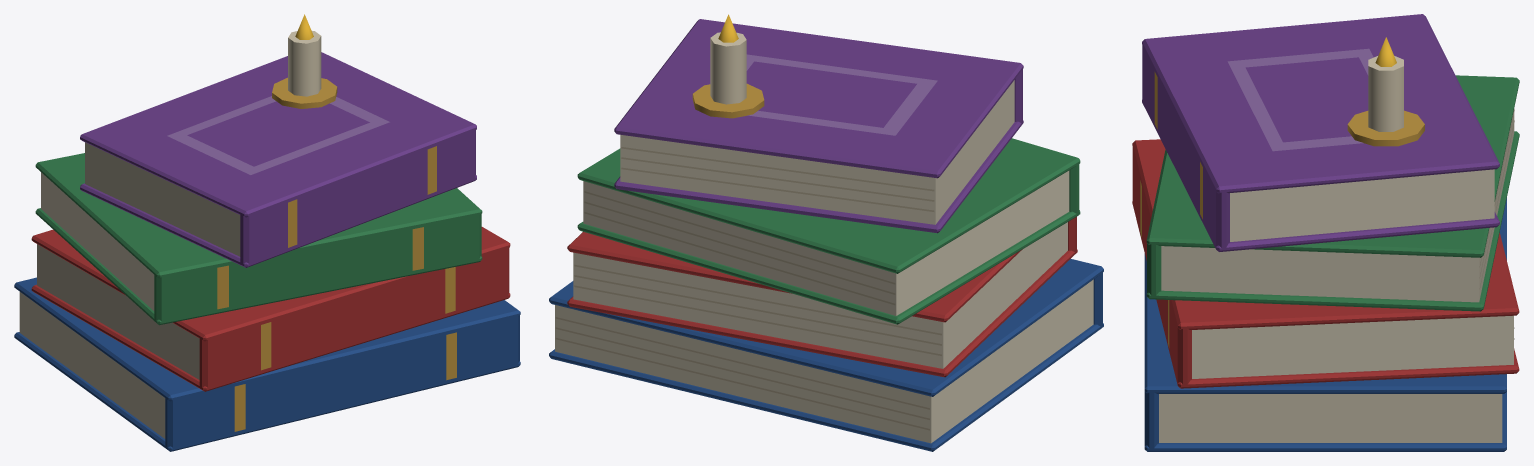
Rendered from library-block.glb.
3 renders of one model, left to right at view 1: azimuth 30°, elevation 25°; view 2: azimuth 150°, elevation 25°; view 3: azimuth 270°, elevation 25°, orthographic. The views are drawn at different scales.
Parts seen in each view (by area): view 1: library-block; view 2: library-block; view 3: library-block.
Part boxes in pixels (x1,y1,x2,y2): library-block: (14, 14, 520, 451); library-block: (549, 14, 1103, 451); library-block: (1132, 14, 1519, 451).
Size of the model in its own units: 1.97 by 1.61 by 1.6.
